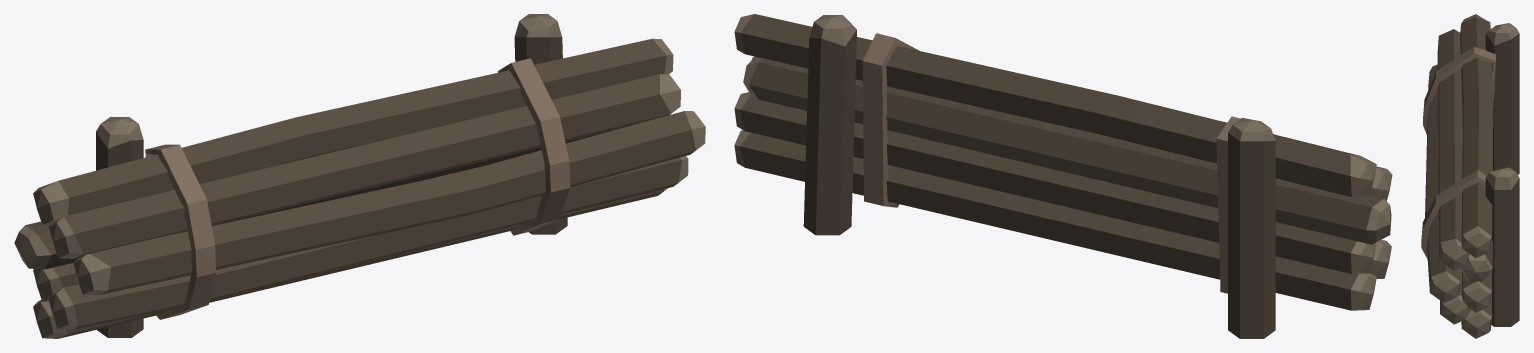
File: SM_Prop_Barricade_Wood_02.glb
The picture shows the model from 3 angles, left to right: view 1: azimuth 30°, elevation 25°; view 2: azimuth 150°, elevation 25°; view 3: azimuth 270°, elevation 25°; orthographic projection. The views are drawn at different scales.
Parts seen in each view (by area): view 1: SM_Prop_Barricade_Wood_02; view 2: SM_Prop_Barricade_Wood_02; view 3: SM_Prop_Barricade_Wood_02.
Boxes of the visible parts, bbox=[...] form: SM_Prop_Barricade_Wood_02: bbox=[14, 14, 705, 338]; SM_Prop_Barricade_Wood_02: bbox=[734, 14, 1392, 338]; SM_Prop_Barricade_Wood_02: bbox=[1421, 14, 1519, 338].
Bounding box in the file's own units: 3.51 × 1.07 × 0.6365.
1 material, 1 textured.
